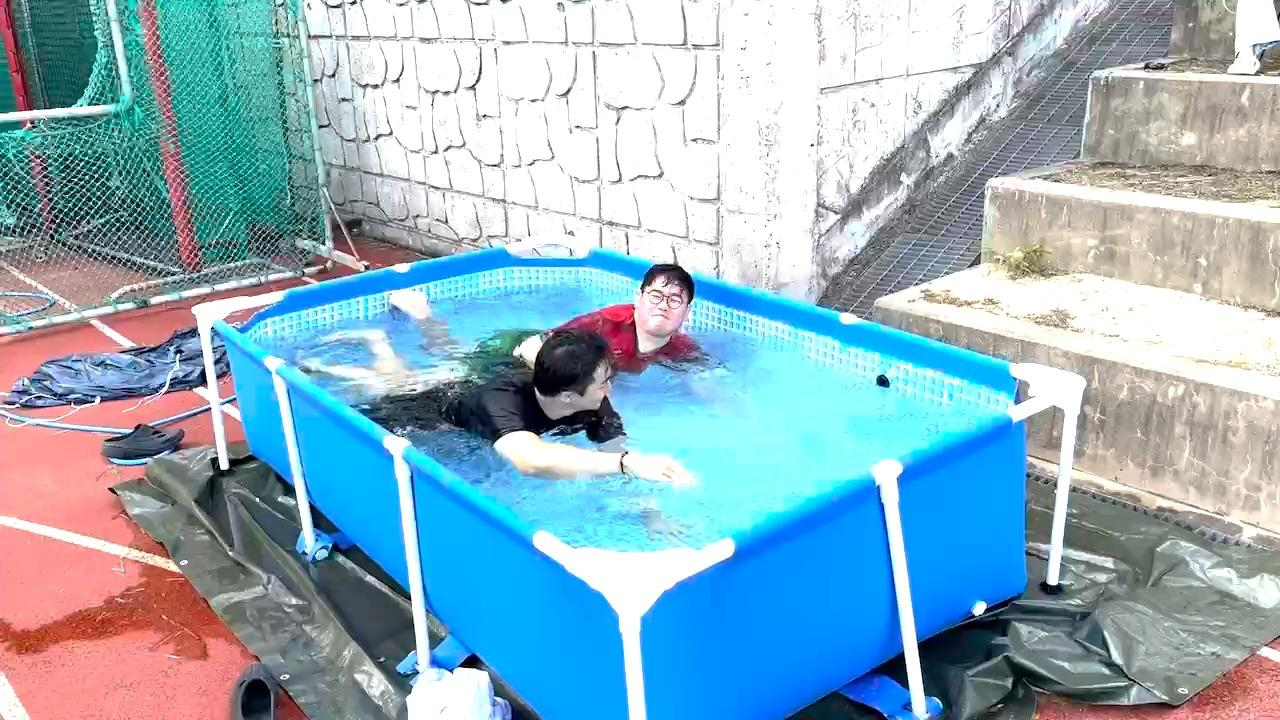Swimming: (336, 306, 629, 473), (391, 247, 726, 382)
